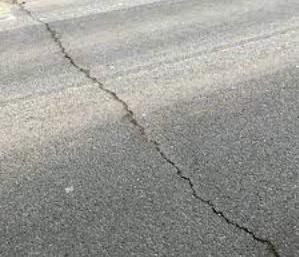crack: (6, 2, 282, 257)
